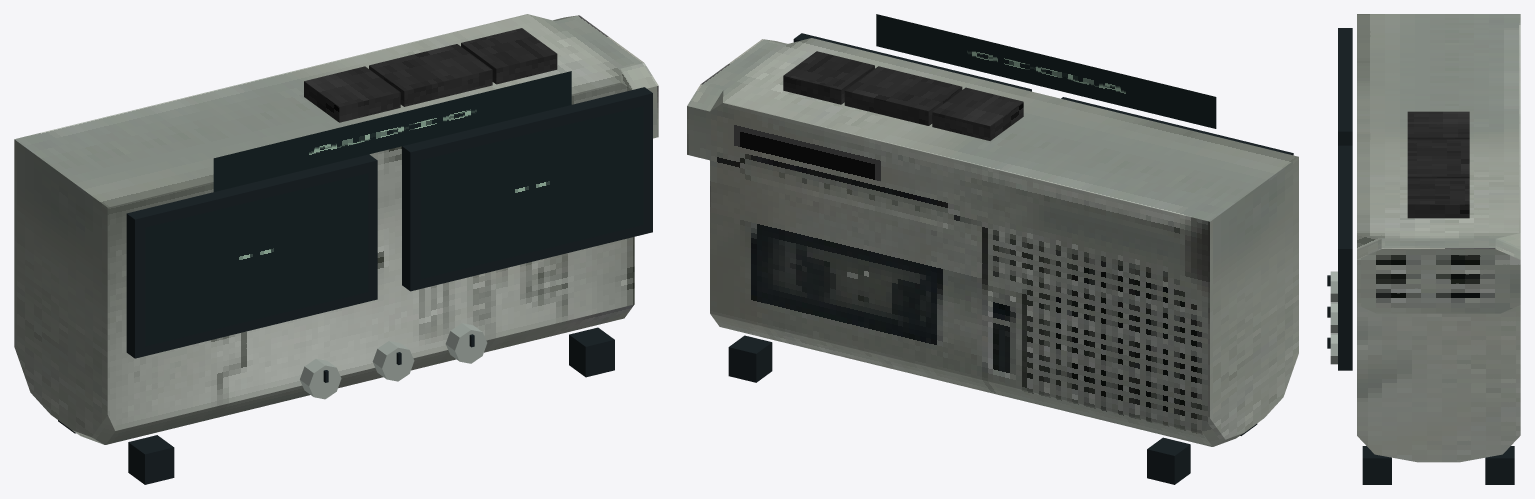
File: blender_sound_monitor_2.glb
3 views of the same model, side by side, from view 1: azimuth 30°, elevation 25°; view 2: azimuth 150°, elevation 25°; view 3: azimuth 270°, elevation 25° (orthographic). The views are drawn at different scales.
Parts seen in each view (by area): view 1: blender_sound_monitor_2; view 2: blender_sound_monitor_2; view 3: blender_sound_monitor_2.
Part boxes in pixels (bbox=[...]): blender_sound_monitor_2: bbox=[14, 14, 658, 484]; blender_sound_monitor_2: bbox=[687, 14, 1298, 484]; blender_sound_monitor_2: bbox=[1327, 14, 1520, 484].
Bounding box in the file's own units: 0.34 × 0.19 × 0.118.
Materials: 1 (1 with a texture image).
